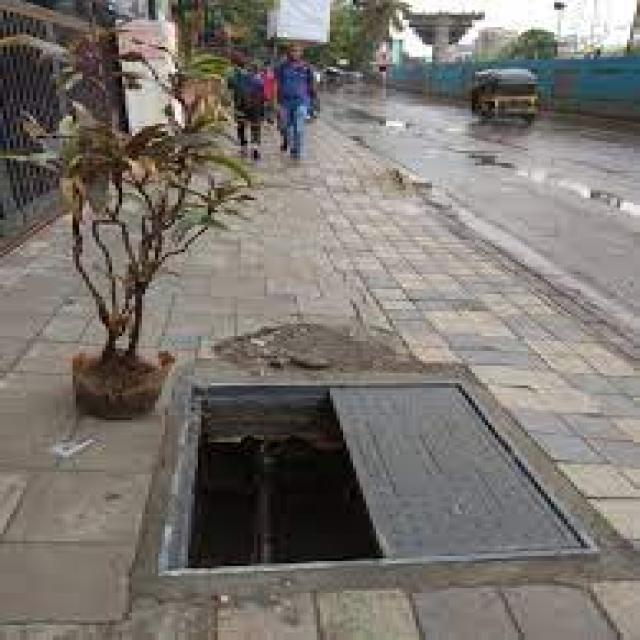Tree: (66, 111, 254, 419)
